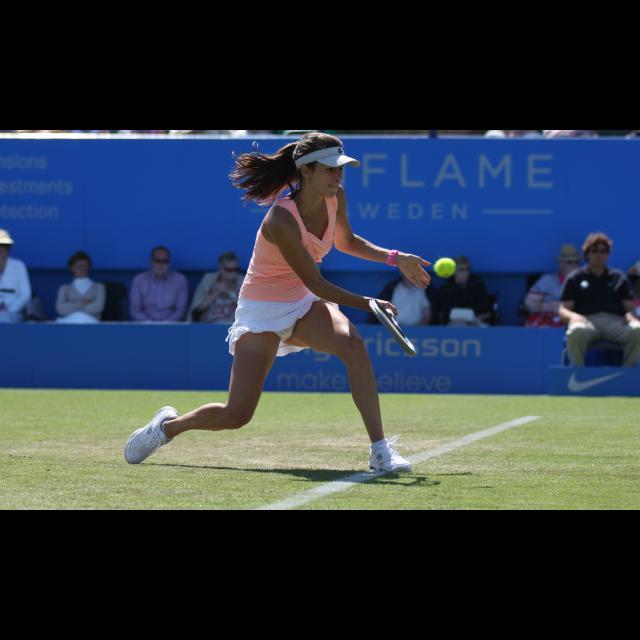tennis-ball: (435, 257, 458, 278)
